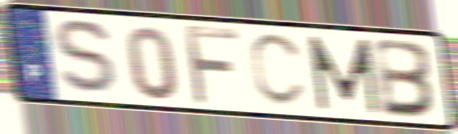0: (122, 21, 182, 103)
B: (372, 35, 441, 120)
C: (247, 32, 308, 110)
F: (180, 21, 243, 108)
M: (304, 33, 383, 116)
S: (51, 16, 126, 100)
